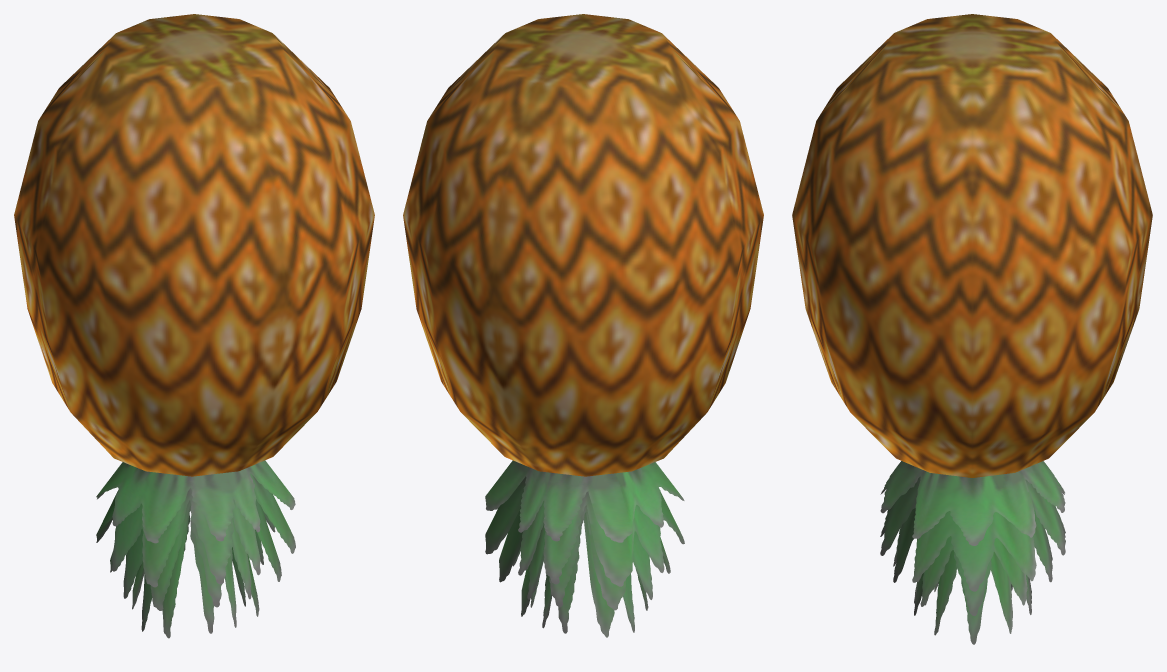
The model's file is ananas_full.FBX.
3 views of the same model, side by side, from view 1: azimuth 30°, elevation 25°; view 2: azimuth 150°, elevation 25°; view 3: azimuth 270°, elevation 25° (orthographic).
Visible parts, largest first — view 1: Object023; view 2: Object023; view 3: Object023.
Boxes of the visible parts, x1,y1,x2,y2 form: Object023: [14, 14, 374, 638]; Object023: [403, 14, 763, 637]; Object023: [792, 14, 1152, 644].
Size of the model in its own units: 21.96 by 39.68 by 21.96.
Materials: 1 (1 with a texture image).
